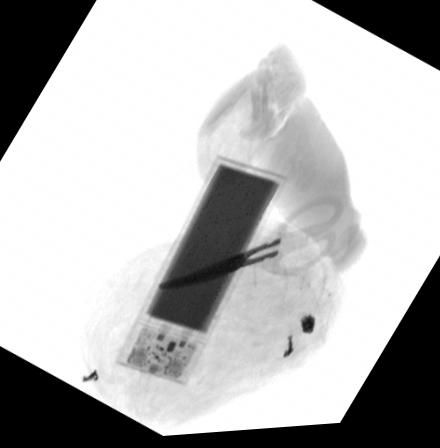Powerbank: (116, 155, 291, 389)
Scissors: (159, 195, 345, 295)
